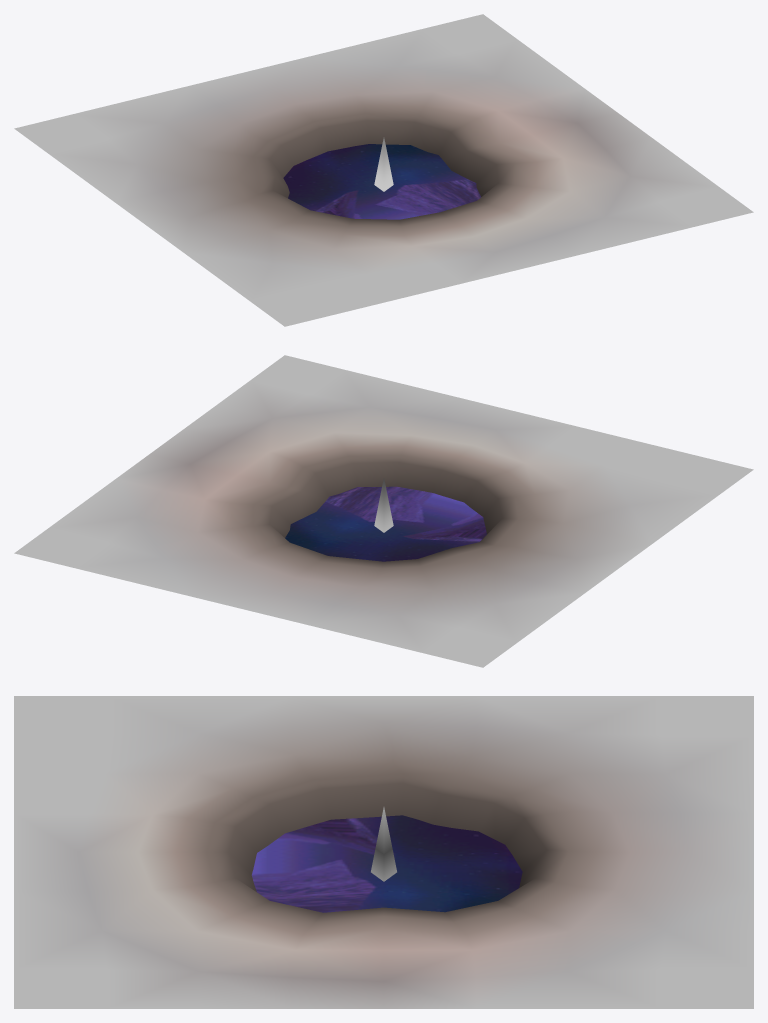
The model's file is uepool01.fbx.
The picture shows the model from 3 angles, top to bottom: view 1: azimuth 30°, elevation 25°; view 2: azimuth 150°, elevation 25°; view 3: azimuth 270°, elevation 25°; orthographic projection. The views are drawn at different scales.
Parts seen in each view (by area): view 1: grid1, chrome, hp_emit_1; view 2: grid1, chrome, hp_emit_1; view 3: grid1, chrome, hp_emit_1.
Part boxes in pixels (x1,y1,x2,y2): grid1: (14, 14, 753, 326); chrome: (283, 144, 480, 219); hp_emit_1: (374, 137, 393, 191); grid1: (14, 355, 753, 667); chrome: (285, 486, 486, 561); hp_emit_1: (374, 478, 393, 532); grid1: (14, 696, 753, 1008); chrome: (251, 815, 522, 912); hp_emit_1: (371, 807, 396, 881).
Size of the model in its own units: 32 by 6.52 by 32.
